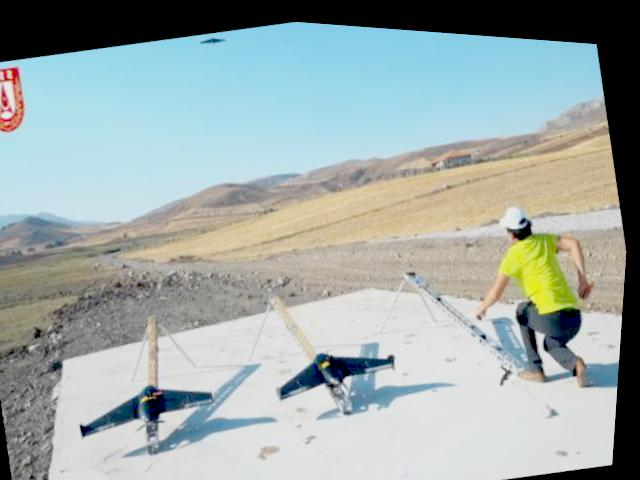uav: (72, 364, 228, 450), (271, 331, 408, 407), (198, 28, 229, 45)
